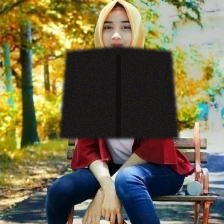Cadar_Niqab: (59, 0, 178, 138)
